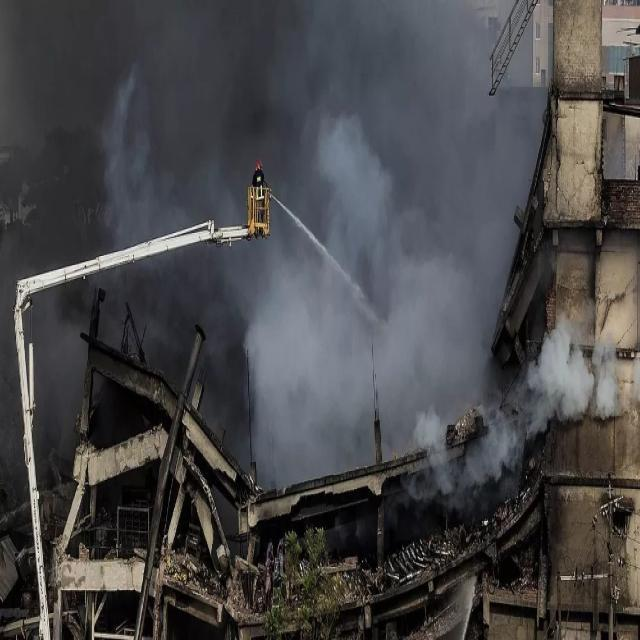Smoke: (5, 0, 536, 436)
